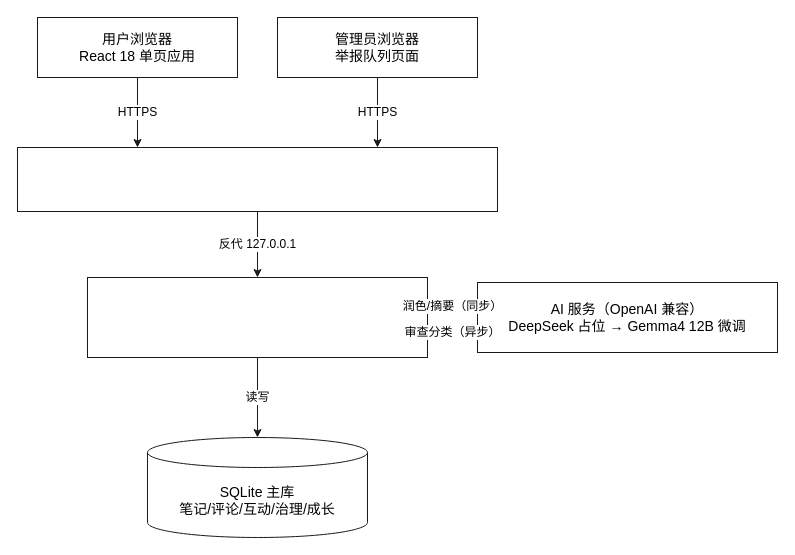
Image size: 795x555. Some labels were removed from this diagram. The centre of each missing label's shape, as x and y in pixels:
FastAPI 后端 路由层 → 服务层 → 数据层: the point at 257,317
nginx 静态资源直出 + API 反向代理: the point at 257,179
